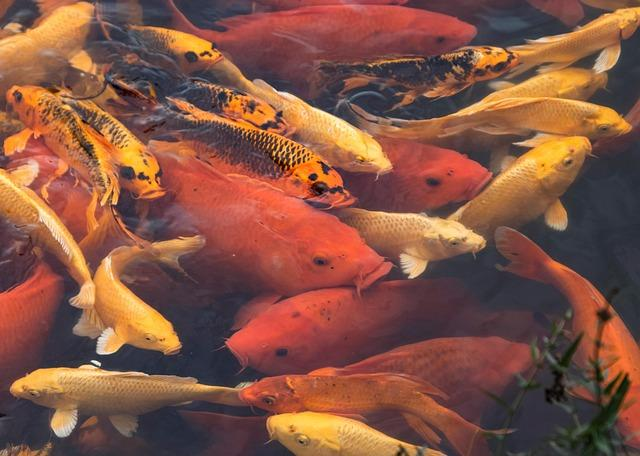Non_Gorille: (55, 28, 597, 449)
